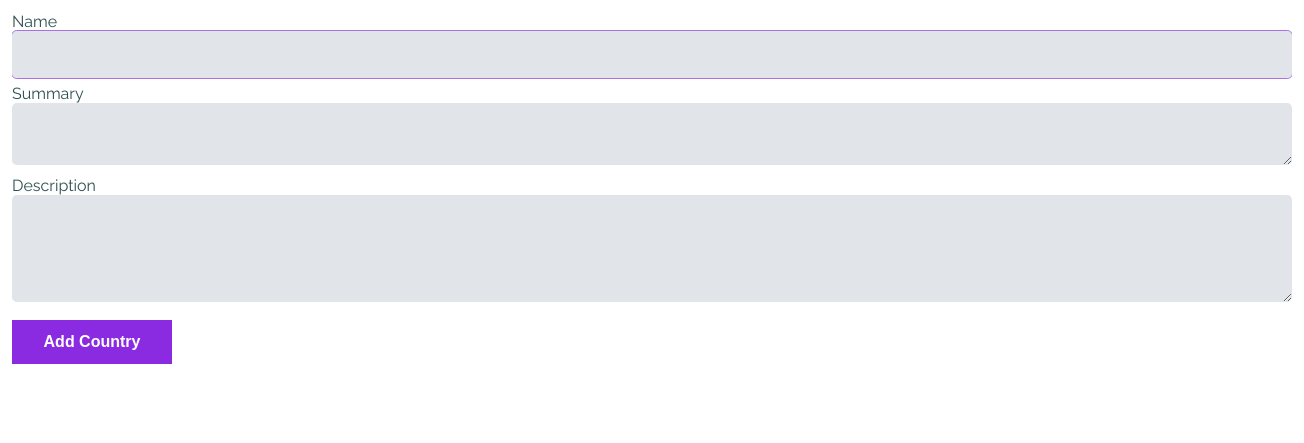
Scenario: Adding a country, unhappy paths › clicking on the Add country button does not add the country when there is no description
Type "test name" into the field labelled "Name".
click(652, 54); type("test name")  # box [12,31,1292,78]
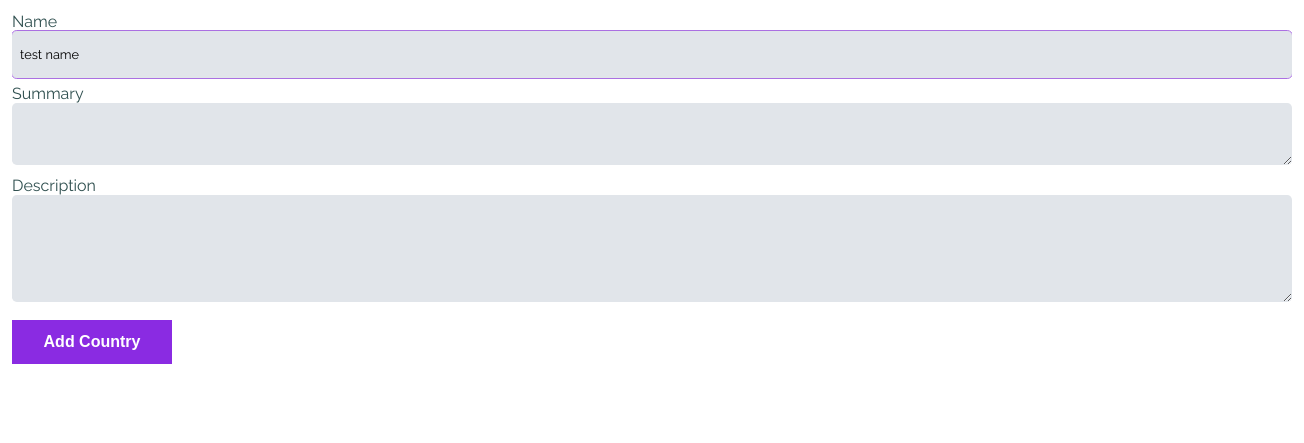
Type "test summary" into the text box labelled "Summary".
click(652, 134); type("test summary")  # box [12,103,1292,165]
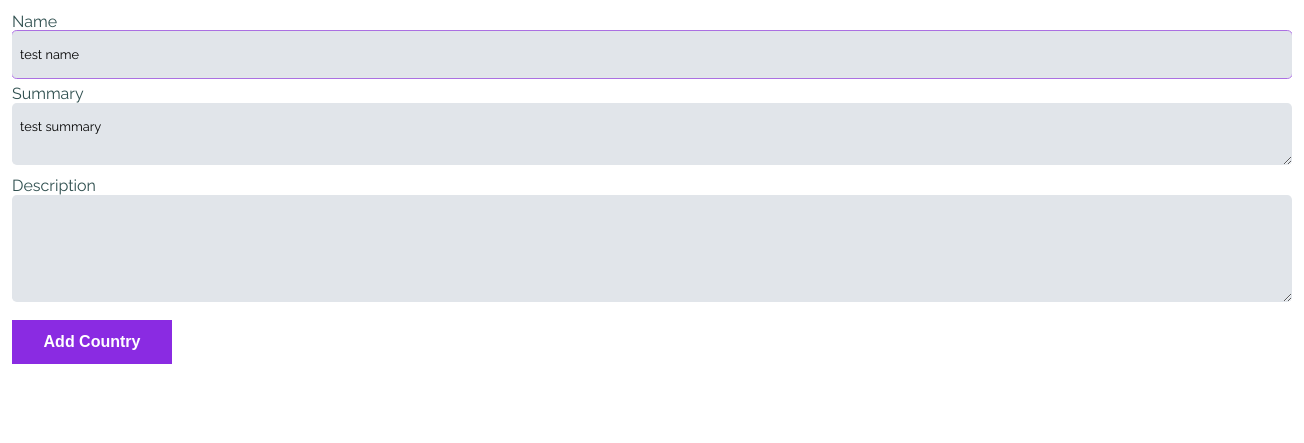
Click the button "Add Country".
click(92, 342)  # box [12,320,172,364]
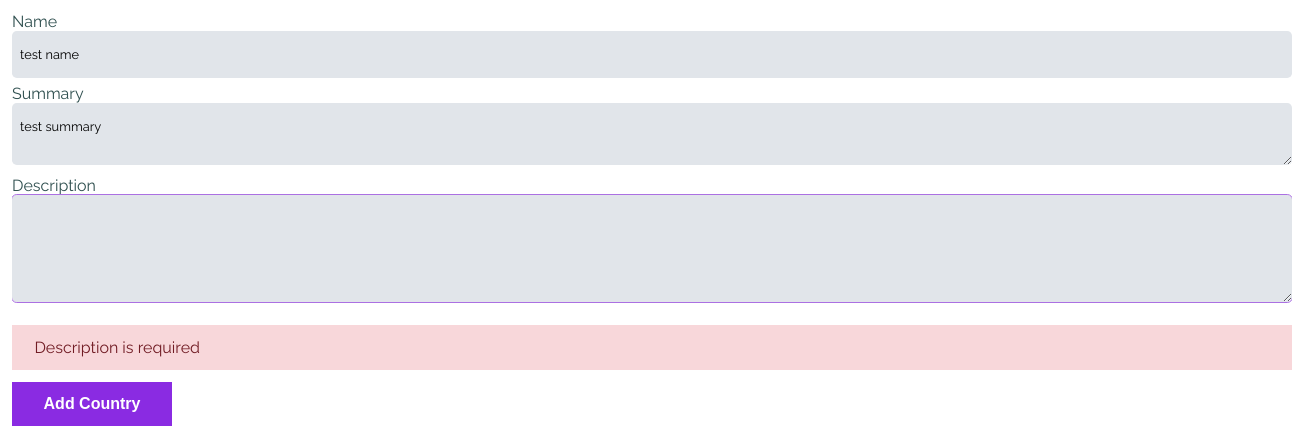
Expected: the text "Description is required" is shown, [12,325,1292,370]
